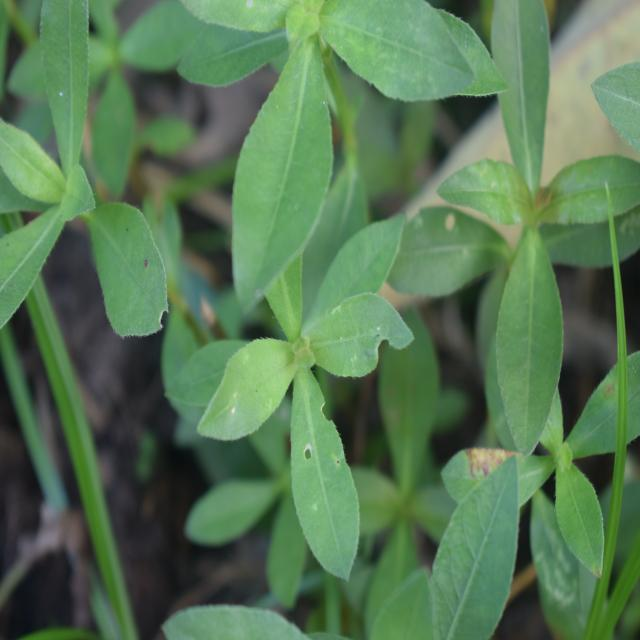Alligatorweed: (185, 163, 420, 564), (425, 9, 618, 446), (155, 0, 470, 238), (0, 0, 179, 395)
